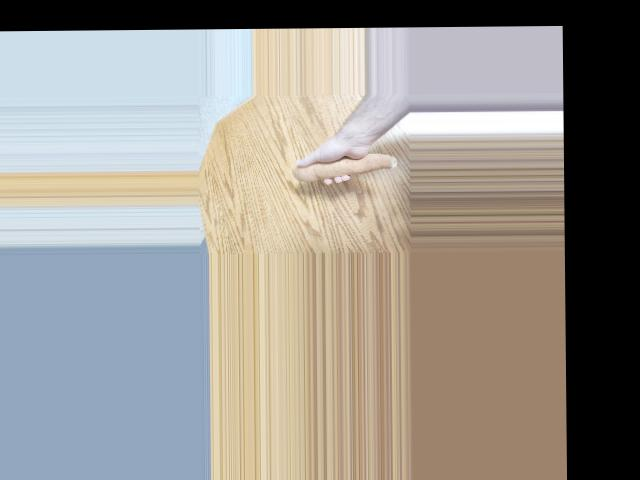sweet_potato: (294, 150, 396, 186)
